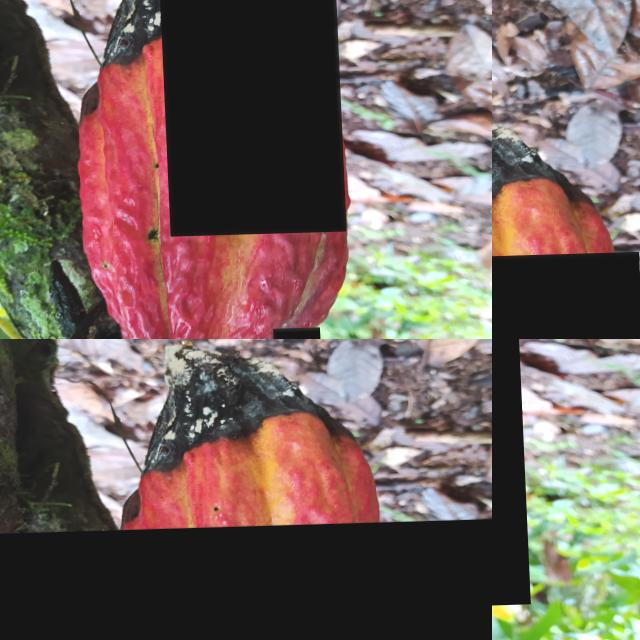Monilia: (0, 520, 492, 640), (156, 0, 342, 238), (492, 255, 640, 339), (492, 339, 525, 613)
